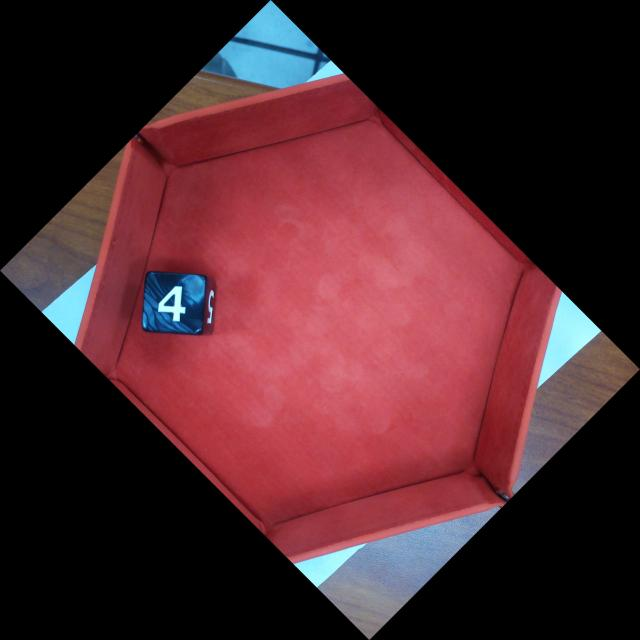dice: (146, 275, 200, 327)
